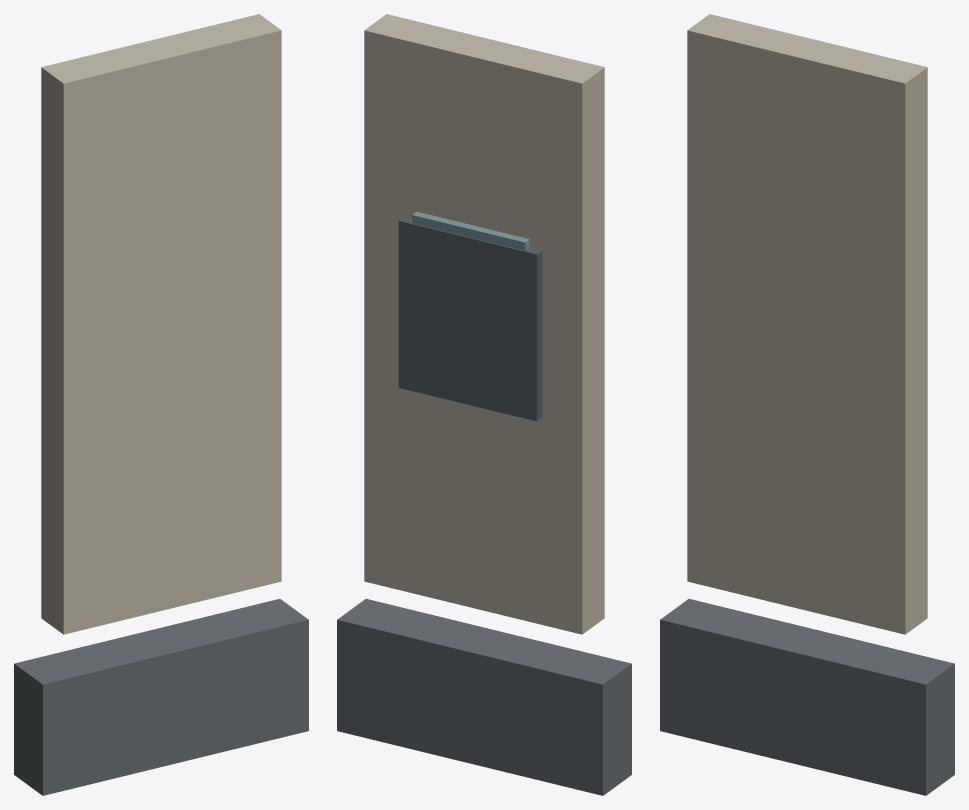
The model's file is iz3_environment_sign_01.glb.
3 renders of one model, left to right at view 1: azimuth 30°, elevation 25°; view 2: azimuth 150°, elevation 25°; view 3: azimuth 330°, elevation 25°, orthographic.
Parts seen in each view (by area): view 1: cabinet, base; view 2: cabinet, base, panel, display; view 3: cabinet, base.
Part boxes in pixels (left/top/right/bottom): cabinet: left=41, top=14, right=281, bottom=634; base: left=14, top=599, right=308, bottom=795; cabinet: left=364, top=14, right=604, bottom=634; base: left=337, top=599, right=631, bottom=795; panel: left=398, top=217, right=542, bottom=421; display: left=412, top=211, right=529, bottom=250; cabinet: left=687, top=14, right=927, bottom=634; base: left=660, top=599, right=954, bottom=795.
Bounding box in the file's own units: 0.8 × 2.02 × 0.1615.
